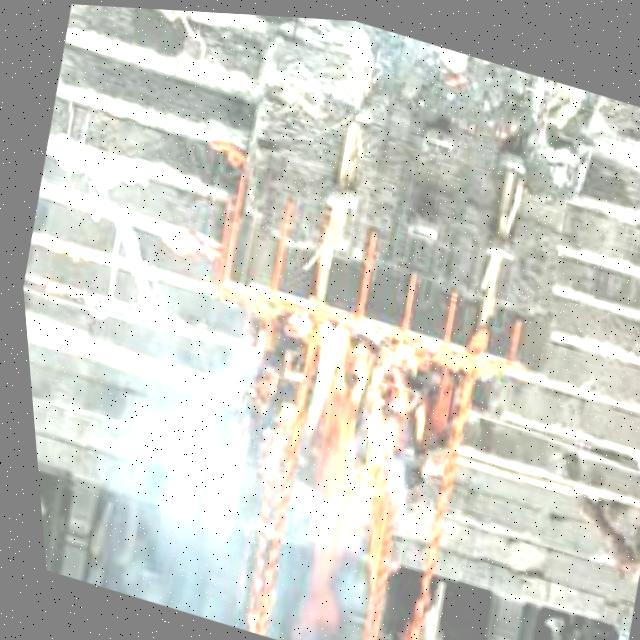Fire: (253, 307, 423, 558)
